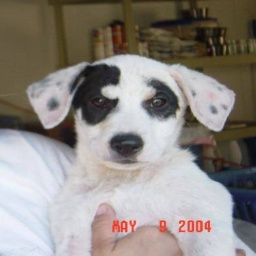dog: (29, 51, 243, 256)
